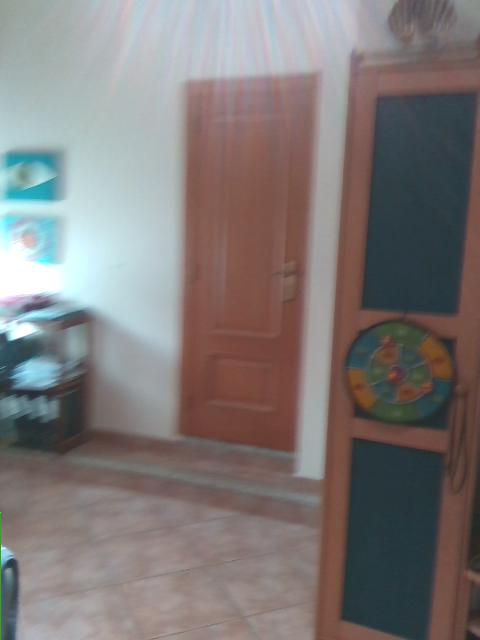closed_door: (174, 75, 318, 452)
